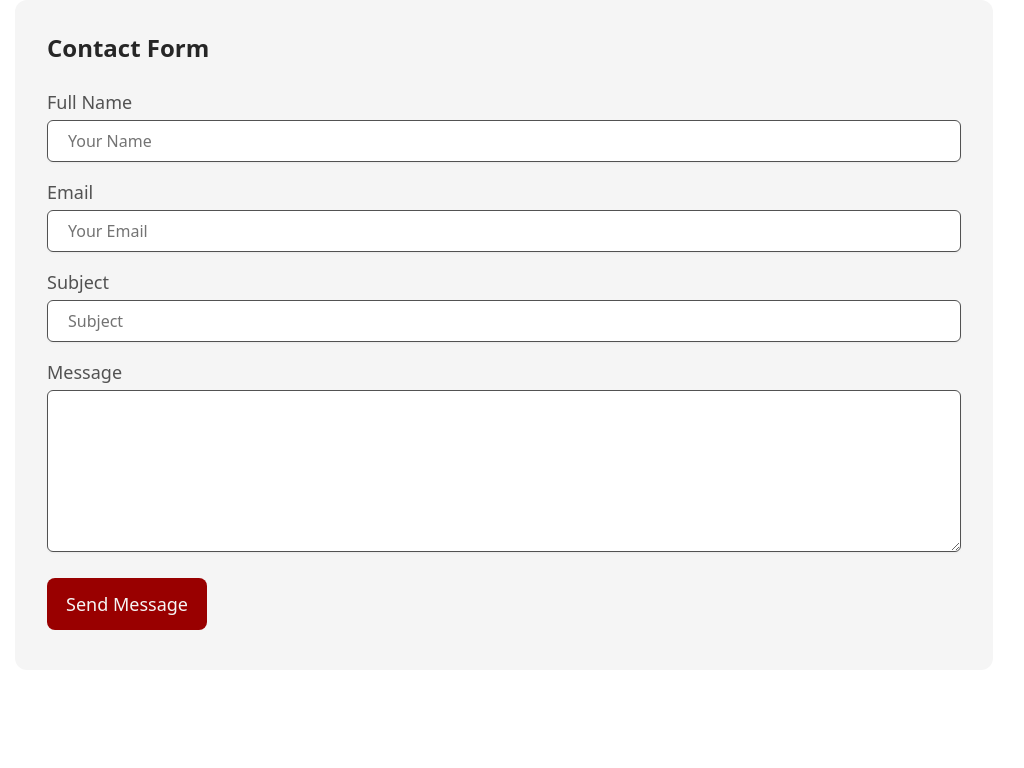
it: ContactForm › shows success message after a successful submission
The width and height of the screenshot is (1024, 768).
Type "Jane Doe" into the field labelled "Name" at point(504, 141), box [47, 120, 961, 162]
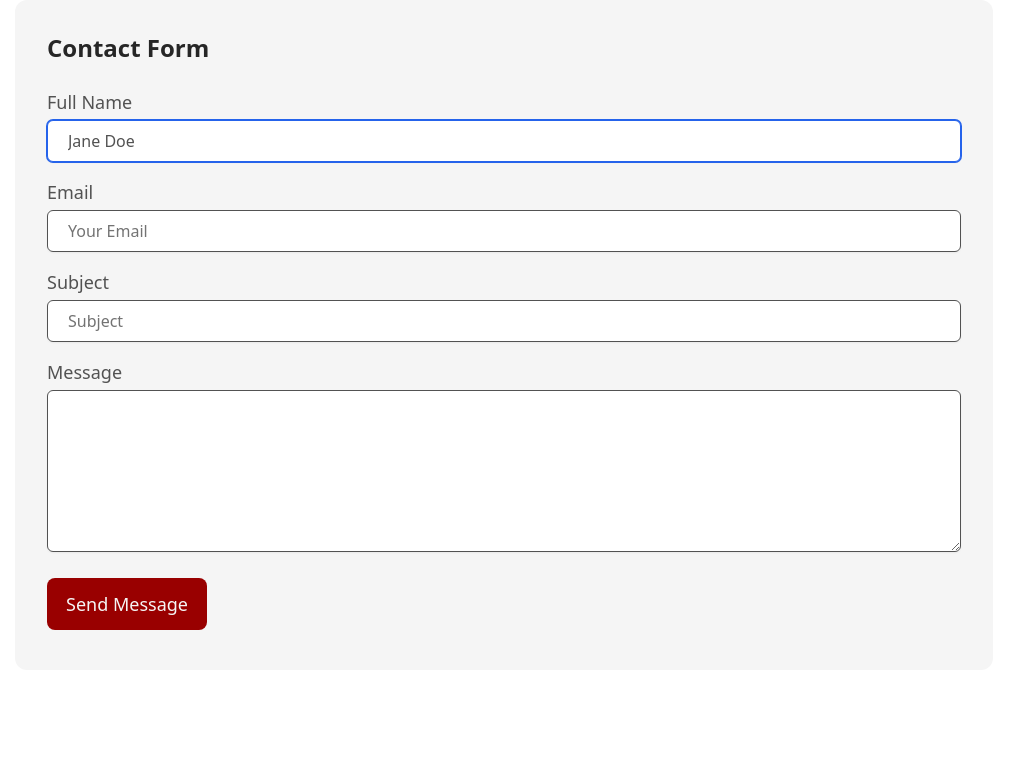
Type "jane@example.com" into the field labelled "Email" at point(504, 231), box [47, 210, 961, 252]
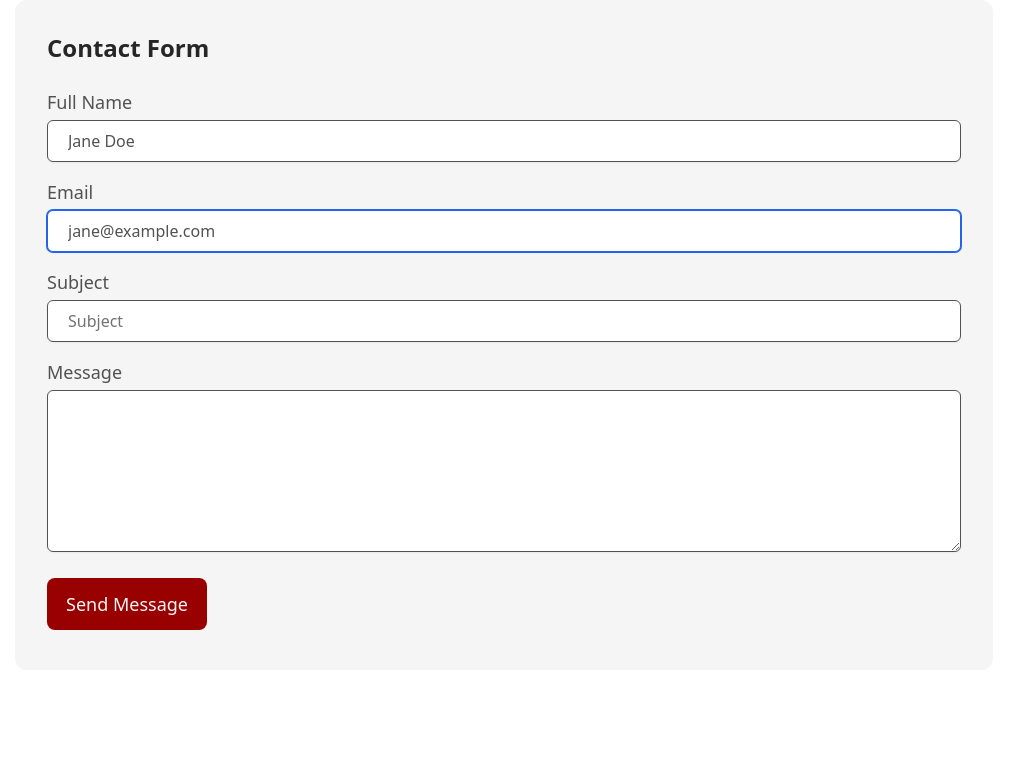
Type "Hello" into the field labelled "Subject" at point(504, 321), box [47, 300, 961, 342]
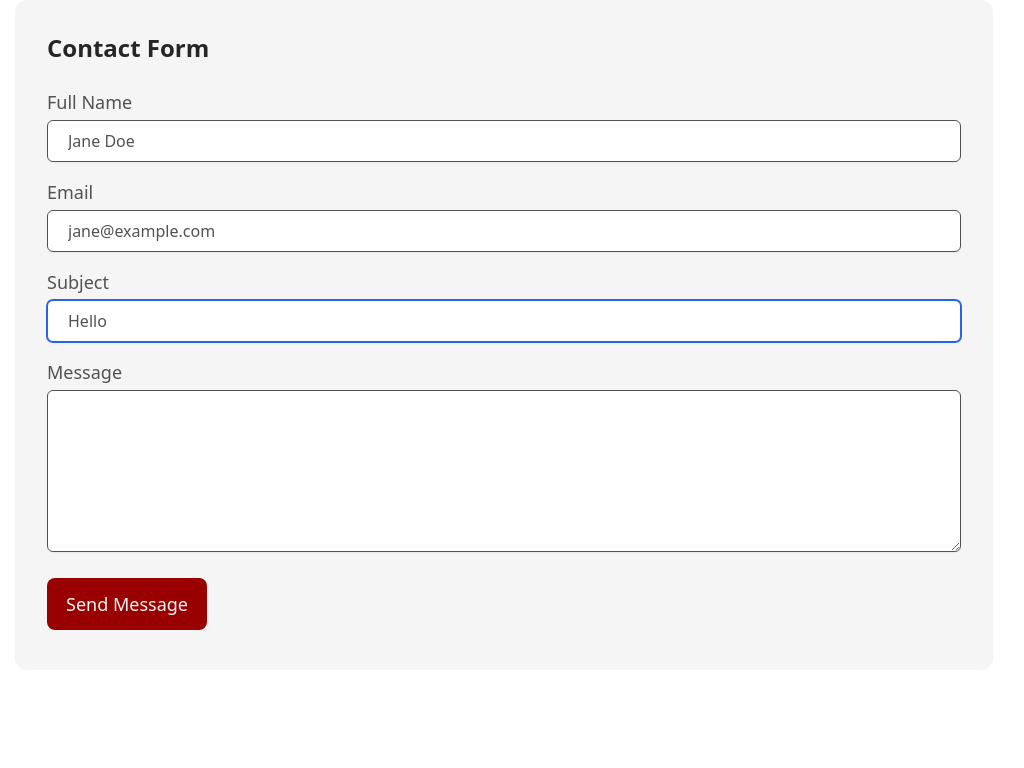
Type "Test message body." into the text box labelled "Message" at point(504, 471), box [47, 390, 961, 552]
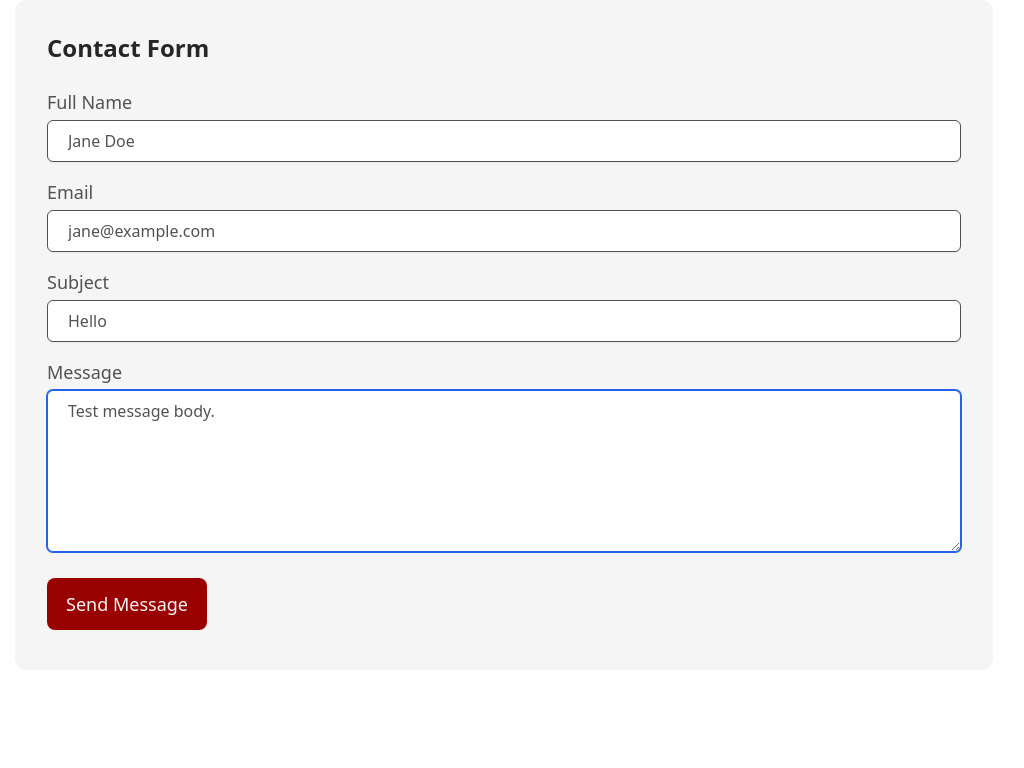
Click the button "Send Message" at point(127, 604), box [47, 578, 207, 630]
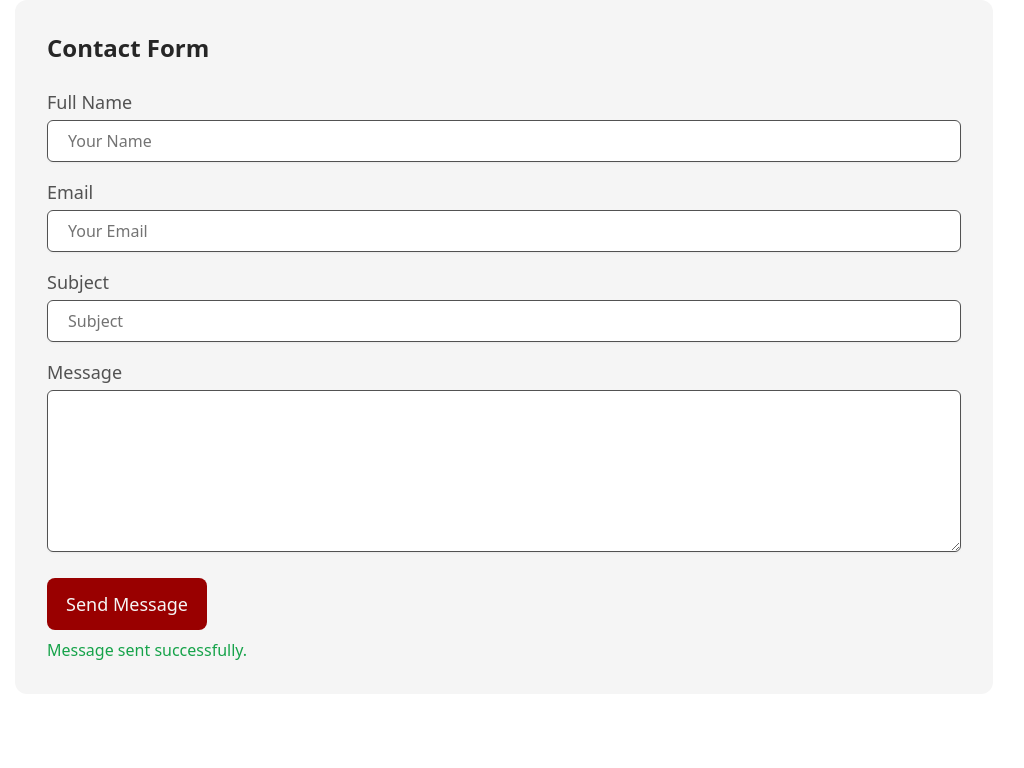
Result: the message reads "Message sent successfully." at [47, 639, 247, 661]
